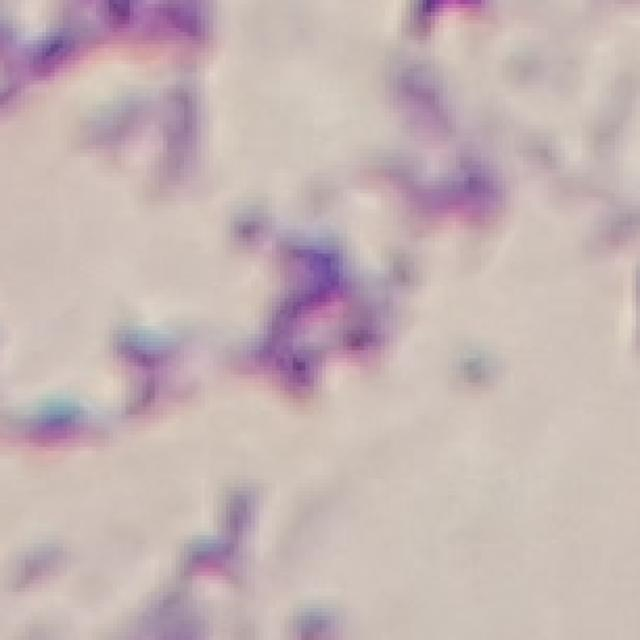non-sperm: (223, 205, 412, 387)
